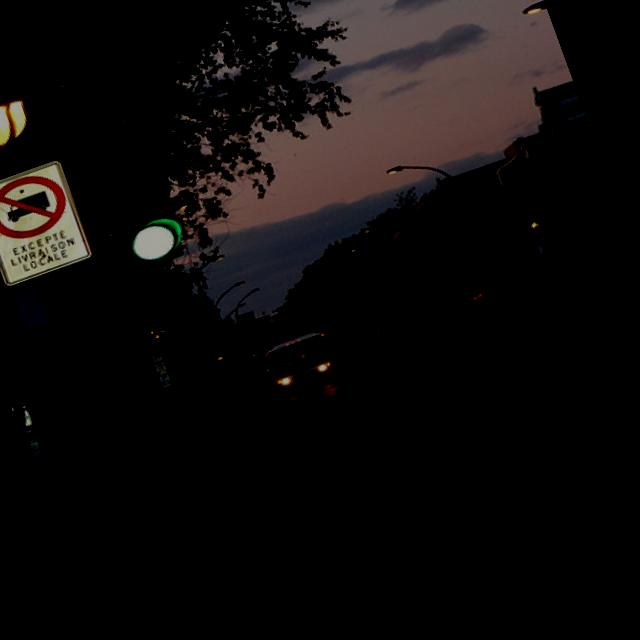Vehicle: (252, 322, 352, 406), (228, 376, 273, 412), (385, 324, 420, 352), (373, 325, 398, 346)
